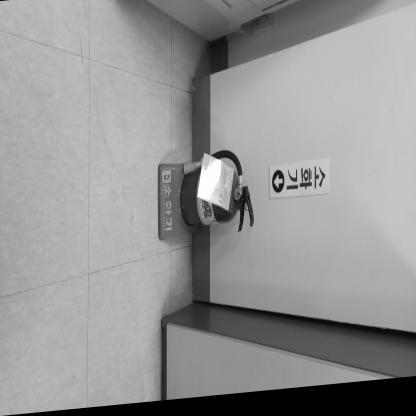FE: (158, 153, 254, 244)
